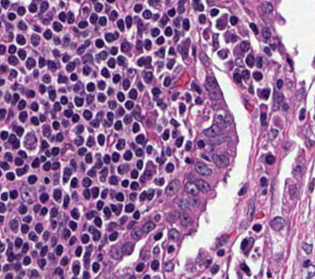nucleus: (165, 179, 179, 195), (204, 124, 221, 137), (212, 154, 228, 167), (195, 162, 211, 175), (194, 179, 210, 192), (270, 217, 284, 230), (207, 86, 220, 99), (185, 182, 198, 195), (247, 199, 254, 220), (180, 212, 191, 225), (210, 136, 227, 144), (142, 221, 154, 232), (289, 184, 298, 198), (206, 76, 216, 88), (215, 115, 225, 127), (167, 211, 179, 221), (105, 32, 118, 41), (200, 52, 209, 65), (223, 113, 232, 126), (63, 168, 71, 182), (96, 51, 107, 61), (191, 82, 201, 93), (177, 198, 188, 208), (111, 204, 121, 214), (178, 45, 186, 57), (240, 41, 249, 51), (143, 72, 152, 82), (118, 164, 128, 173), (143, 169, 152, 179), (262, 27, 270, 38), (31, 34, 39, 45), (275, 92, 283, 103), (246, 55, 253, 67), (53, 189, 60, 201), (47, 61, 56, 70), (74, 97, 83, 106), (82, 177, 91, 186), (261, 89, 269, 99), (116, 139, 124, 149), (293, 166, 301, 176), (260, 112, 266, 125), (133, 108, 140, 119), (43, 125, 50, 136), (121, 42, 129, 51), (218, 50, 227, 58), (83, 54, 92, 62), (144, 56, 150, 68), (101, 68, 109, 77), (253, 71, 261, 80), (83, 110, 91, 119), (74, 137, 83, 145), (266, 155, 274, 164), (40, 193, 48, 202), (63, 195, 69, 207), (44, 29, 51, 39), (213, 34, 218, 48), (144, 39, 151, 49), (91, 187, 98, 197), (49, 89, 55, 100), (98, 134, 104, 145), (104, 207, 110, 218), (96, 154, 101, 167), (95, 39, 103, 47), (77, 45, 85, 53), (66, 63, 74, 71), (125, 101, 133, 109), (75, 125, 83, 133), (136, 135, 144, 143), (51, 147, 59, 155), (109, 176, 117, 184), (125, 204, 133, 212), (87, 211, 95, 219), (157, 48, 164, 57), (117, 56, 124, 65), (167, 59, 174, 68), (83, 65, 90, 74), (242, 70, 249, 79), (233, 73, 240, 82), (129, 89, 136, 98), (117, 92, 124, 101), (162, 130, 169, 139), (87, 137, 94, 146), (124, 150, 131, 159), (166, 163, 173, 172), (155, 178, 164, 185), (83, 189, 90, 198), (50, 208, 57, 217), (71, 209, 78, 218), (94, 217, 101, 226), (69, 221, 76, 230), (123, 79, 129, 89), (179, 103, 185, 113), (133, 122, 139, 132), (176, 137, 182, 147), (309, 179, 314, 191), (156, 36, 163, 44), (62, 54, 69, 62), (137, 58, 144, 66), (235, 58, 242, 66), (58, 75, 66, 82), (98, 81, 105, 89), (74, 83, 81, 91), (87, 83, 94, 91), (152, 88, 160, 95), (109, 100, 116, 108), (31, 102, 38, 110), (124, 115, 131, 123), (31, 117, 38, 125), (91, 119, 98, 127), (114, 121, 121, 129), (270, 129, 277, 137), (78, 148, 86, 155), (32, 159, 39, 167), (43, 162, 50, 170), (88, 168, 95, 176), (131, 170, 138, 178), (130, 182, 138, 189), (238, 187, 245, 195), (116, 193, 123, 201), (35, 224, 42, 232), (299, 108, 304, 119), (63, 35, 69, 44), (108, 58, 114, 67), (164, 77, 170, 86), (112, 152, 118, 161), (85, 153, 91, 162), (70, 159, 76, 168), (71, 178, 77, 187), (147, 190, 153, 199), (140, 191, 146, 200), (136, 41, 141, 51), (39, 57, 44, 67), (257, 57, 262, 67), (43, 75, 50, 82), (98, 94, 105, 101), (197, 140, 204, 147), (52, 162, 59, 169), (119, 217, 126, 224), (264, 47, 270, 55), (113, 74, 119, 82), (39, 85, 45, 93), (61, 96, 67, 104), (54, 102, 60, 110), (64, 110, 72, 116), (107, 112, 113, 120), (53, 121, 59, 129), (56, 133, 62, 141), (41, 140, 47, 148), (260, 177, 266, 185), (101, 189, 107, 197), (34, 204, 40, 212), (133, 211, 139, 219), (277, 79, 282, 88), (185, 141, 190, 150), (54, 37, 60, 44), (111, 47, 117, 54), (53, 49, 59, 56), (70, 73, 76, 80), (87, 96, 93, 103), (118, 108, 124, 115), (72, 114, 78, 121), (171, 119, 178, 125), (136, 149, 142, 156), (101, 168, 107, 175), (122, 180, 128, 187), (130, 193, 136, 200), (41, 207, 47, 214), (128, 221, 134, 228), (108, 223, 115, 229), (166, 147, 171, 155), (104, 155, 109, 163), (137, 160, 142, 168), (97, 201, 102, 209), (282, 103, 288, 109), (169, 47, 174, 54), (51, 221, 56, 228), (249, 85, 253, 93), (186, 93, 190, 101), (147, 145, 151, 153), (231, 35, 236, 41), (84, 40, 89, 46), (172, 93, 177, 99), (40, 115, 45, 121), (100, 175, 105, 181), (34, 70, 38, 77), (196, 98, 201, 103), (62, 121, 67, 126), (45, 151, 50, 156), (138, 83, 142, 89), (108, 88, 112, 94), (104, 121, 110, 125), (202, 155, 208, 159), (157, 158, 163, 162), (158, 101, 162, 106), (41, 156, 45, 161), (155, 215, 159, 220), (186, 158, 190, 162), (44, 178, 48, 182), (83, 32, 87, 35), (173, 131, 175, 136)
